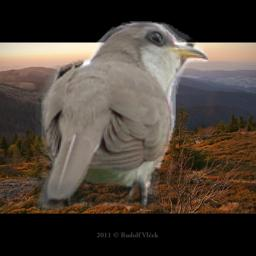Cuckoo: (34, 21, 208, 211)
